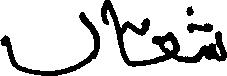X: (0, 7, 97, 75), (108, 0, 129, 70), (204, 18, 226, 66), (153, 27, 178, 68)
